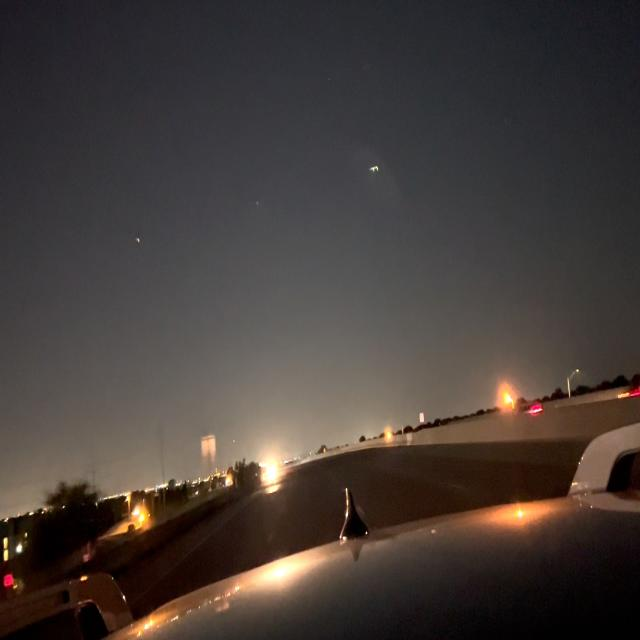back-of-sign: (201, 436, 217, 467)
